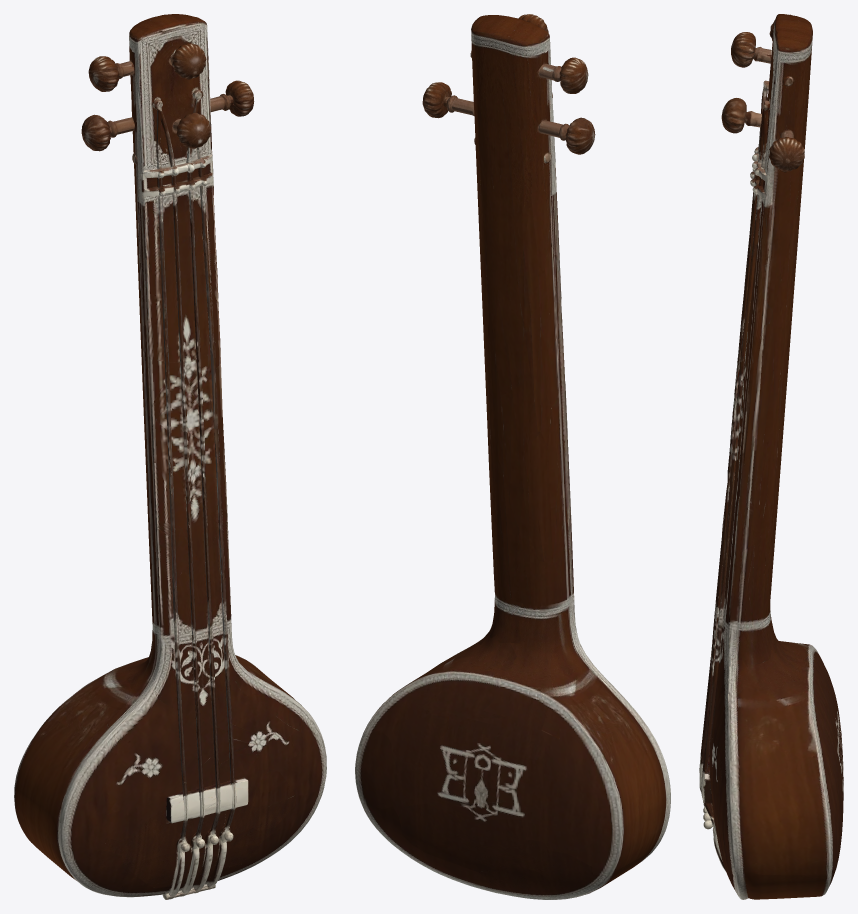
Rendered from tanpura.glb.
3 views of the same model, side by side, from view 1: azimuth 30°, elevation 25°; view 2: azimuth 150°, elevation 25°; view 3: azimuth 270°, elevation 25° (orthographic).
Parts seen in each view (by area): view 1: placed; view 2: placed; view 3: placed.
Part boxes in pixels (<box>): placed: <box>14,14,326,899</box>; placed: <box>355,14,670,899</box>; placed: <box>699,14,843,899</box>.
Size of the model in its own units: 0.454 by 1.4 by 0.2141.
1 material, 1 textured.
